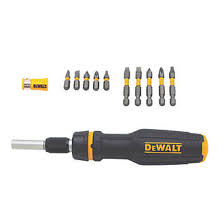screwdriver: (9, 115, 214, 171)
